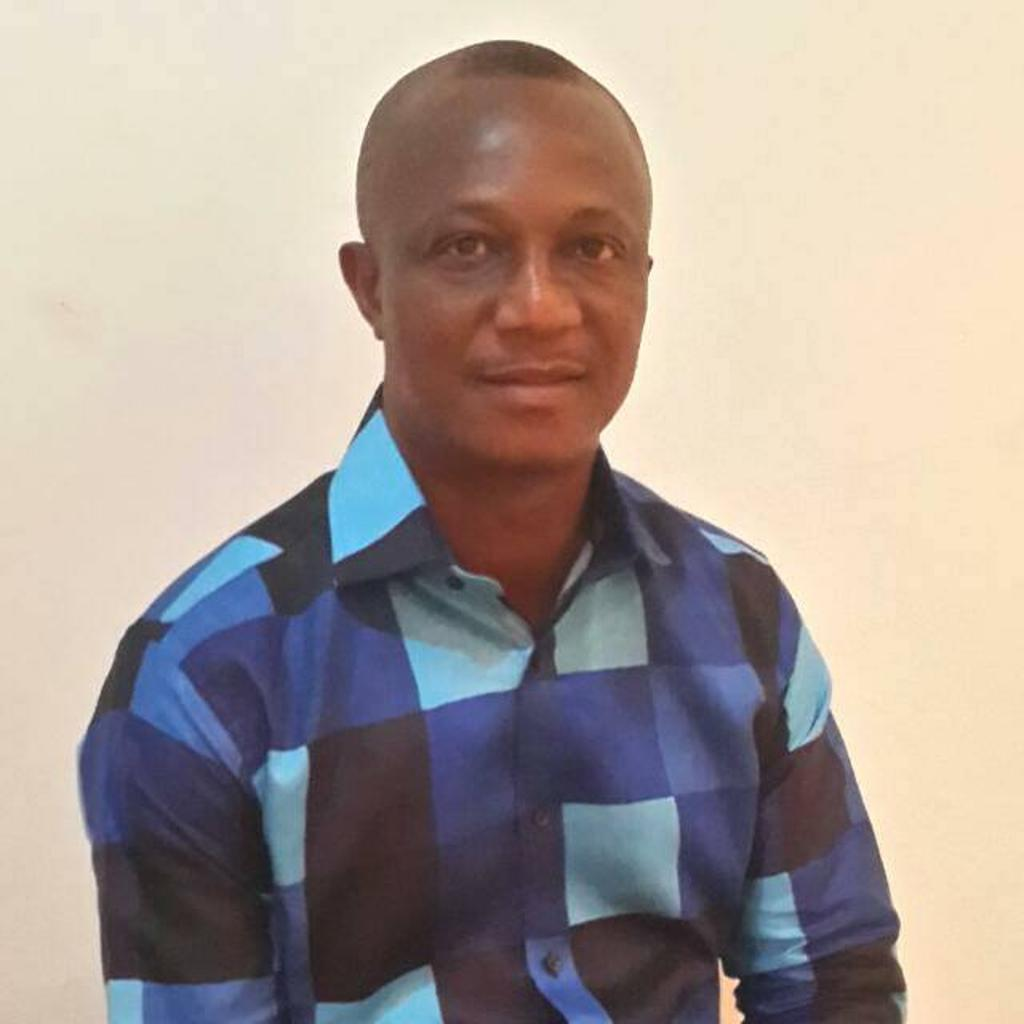face: (391, 91, 651, 465)
